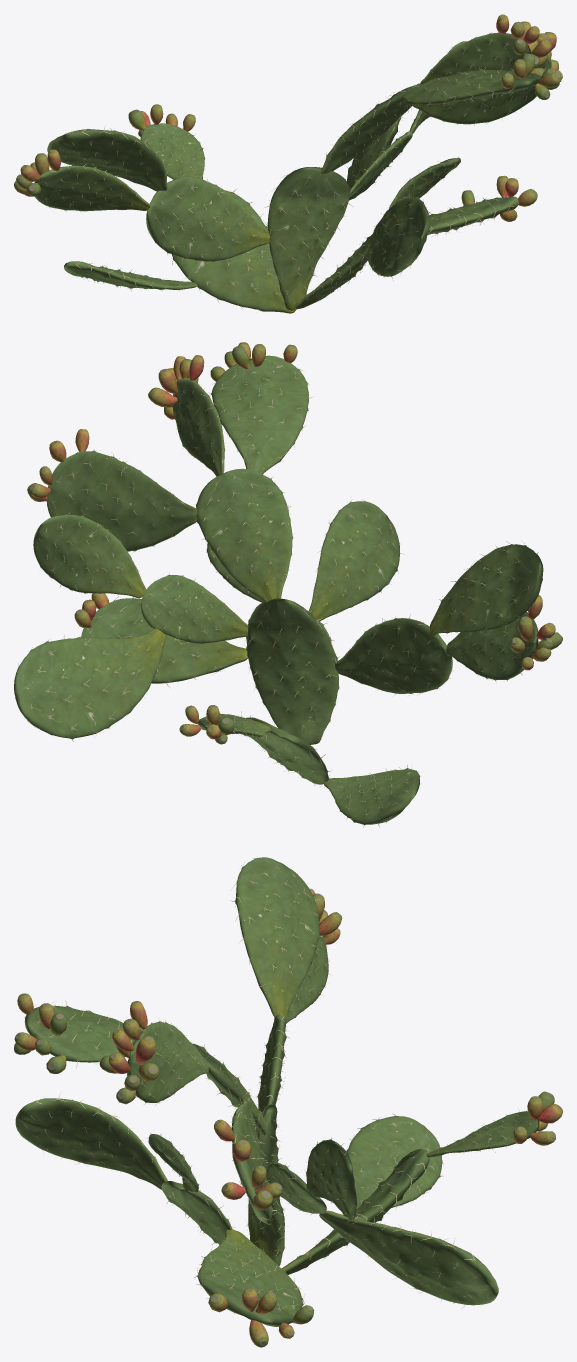
File: Opuntia ficus-indica HD_Drooping fruits mat 40_LOD0.fbx
3 renders of one model, top to bottom at view 1: azimuth 30°, elevation 25°; view 2: azimuth 150°, elevation 25°; view 3: azimuth 270°, elevation 25°, orthographic. The views are drawn at different scales.
Visible parts, largest first — view 1: Opuntia_ficus_indica_HD; view 2: Opuntia_ficus_indica_HD; view 3: Opuntia_ficus_indica_HD.
Part boxes in pixels (x1,y1,x2,y2): Opuntia_ficus_indica_HD: [14, 14, 562, 313]; Opuntia_ficus_indica_HD: [14, 342, 562, 827]; Opuntia_ficus_indica_HD: [14, 857, 562, 1347].
Size of the model in its own units: 1.59 by 0.8956 by 1.21.
Materials: 12 (12 with a texture image).
